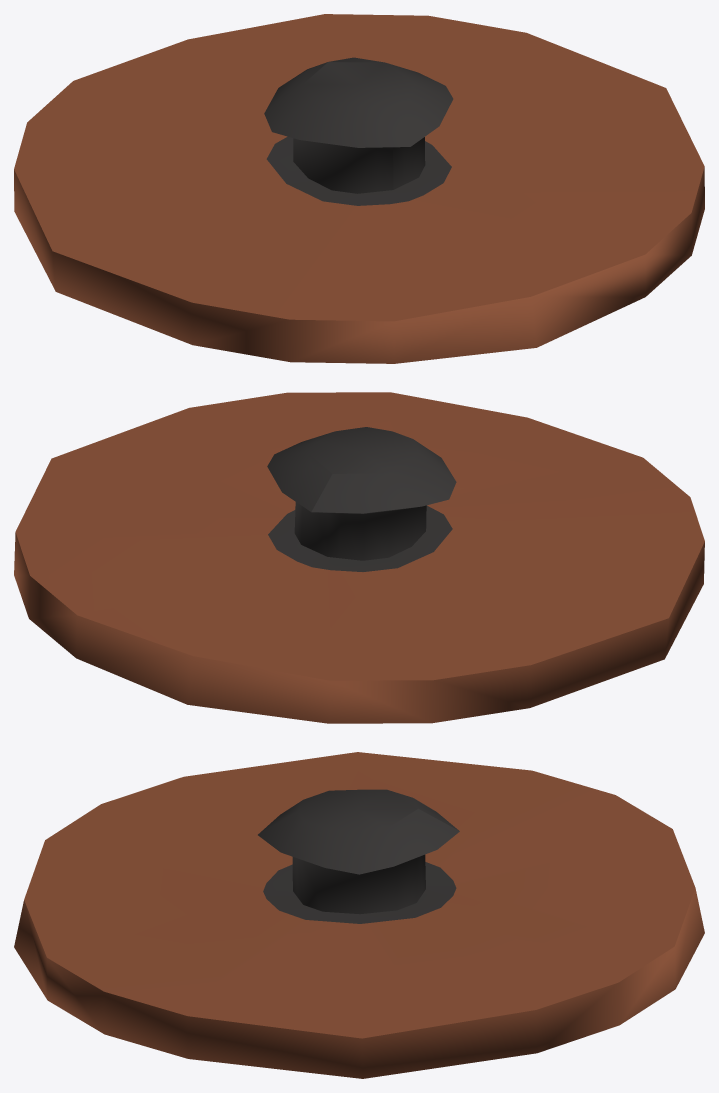
The model's file is Rice Cooker Lid (1).fbx.
The picture shows the model from 3 angles, top to bottom: view 1: azimuth 30°, elevation 25°; view 2: azimuth 150°, elevation 25°; view 3: azimuth 270°, elevation 25°; orthographic projection.
Parts seen in each view (by area): view 1: Lid.001; view 2: Lid.001; view 3: Lid.001.
Boxes of the visible parts, box(x1,y1,x2,y2) form: Lid.001: box(14, 14, 704, 363); Lid.001: box(14, 392, 704, 723); Lid.001: box(14, 752, 704, 1078).
Size of the model in its own units: 827 by 202 by 811.
